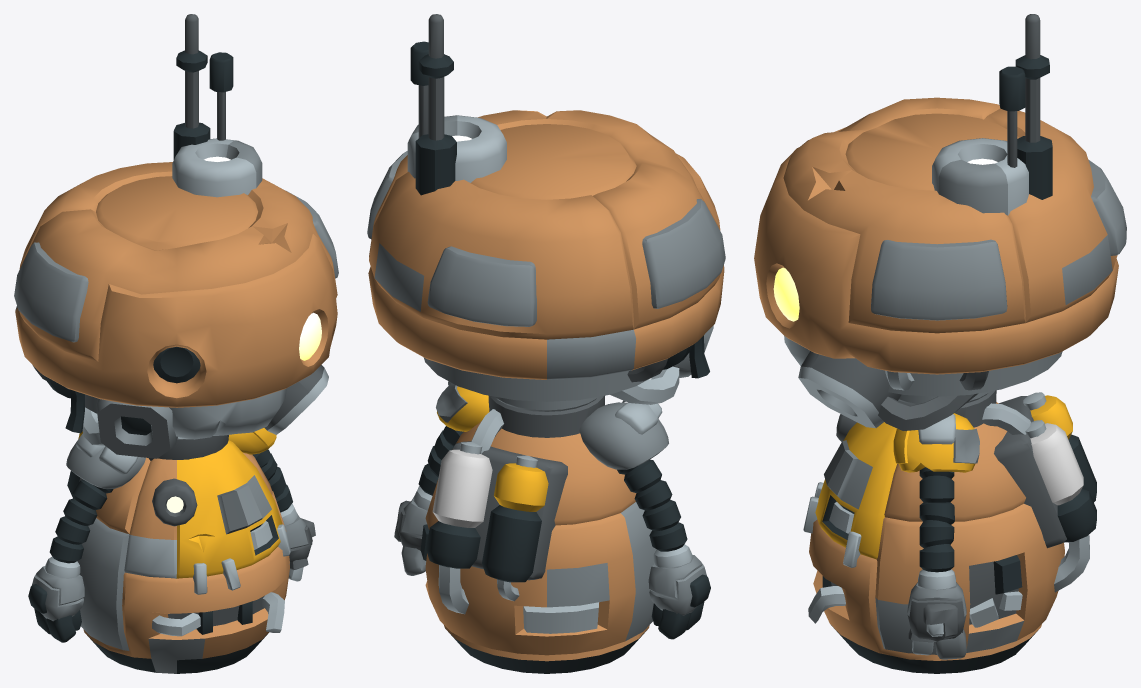
File: character_scrapbot.gltf
3 renders of one model, left to right at view 1: azimuth 30°, elevation 25°; view 2: azimuth 150°, elevation 25°; view 3: azimuth 270°, elevation 25°, orthographic. The views are drawn at different scales.
Visible parts, largest first — view 1: character_scrapbot_head, character_scrapbot_body, character_scrapbot_armRight, character_scrapbot_mouth, character_scrapbot_armLeft; view 2: character_scrapbot_head, character_scrapbot_body, character_scrapbot_battery, character_scrapbot_armRight, character_scrapbot_armLeft; view 3: character_scrapbot_head, character_scrapbot_body, character_scrapbot_battery, character_scrapbot_armLeft.
Boxes of the visible parts, bbox=[...] form: character_scrapbot_head: bbox=[14, 14, 338, 460]; character_scrapbot_body: bbox=[77, 440, 291, 673]; character_scrapbot_armRight: bbox=[28, 433, 145, 642]; character_scrapbot_mouth: bbox=[169, 388, 286, 439]; character_scrapbot_armLeft: bbox=[228, 428, 315, 581]; character_scrapbot_head: bbox=[367, 14, 725, 437]; character_scrapbot_body: bbox=[420, 421, 656, 673]; character_scrapbot_battery: bbox=[426, 409, 567, 614]; character_scrapbot_armRight: bbox=[579, 400, 710, 639]; character_scrapbot_armLeft: bbox=[394, 381, 489, 575]; character_scrapbot_head: bbox=[754, 14, 1126, 430]; character_scrapbot_body: bbox=[803, 402, 1064, 673]; character_scrapbot_battery: bbox=[982, 392, 1096, 592]; character_scrapbot_armLeft: bbox=[893, 413, 979, 659].
Bounding box in the file's own units: 1.03 × 1.97 × 1.02.
